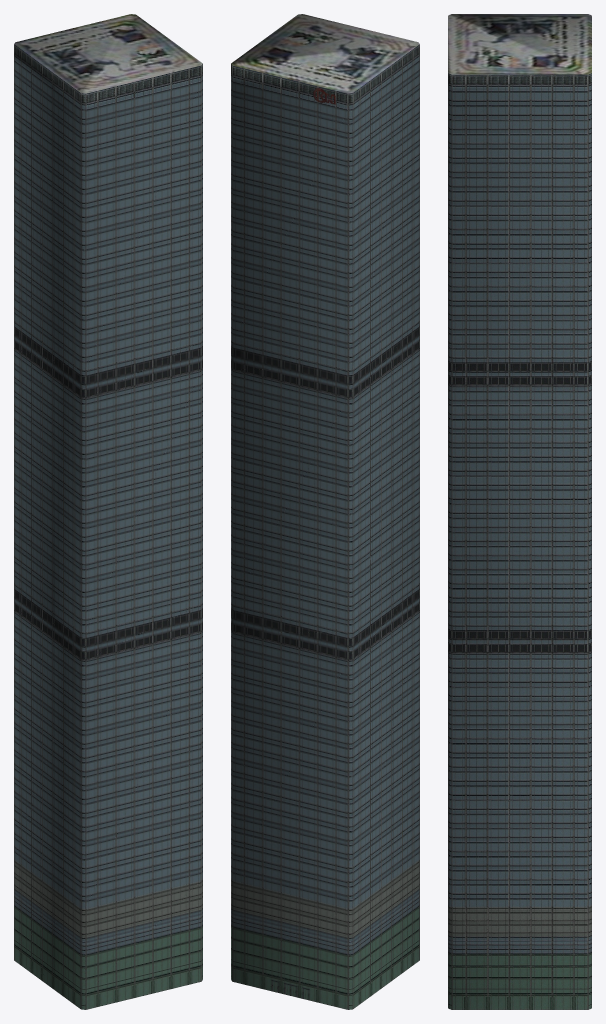
Rendered from CheungKongCenter_HighLOD.dae.
3 views of the same model, side by side, from view 1: azimuth 30°, elevation 25°; view 2: azimuth 150°, elevation 25°; view 3: azimuth 270°, elevation 25° (orthographic). The views are drawn at different scales.
Visible parts, largest first — view 1: CheungKongCentre; view 2: CheungKongCentre; view 3: CheungKongCentre.
Boxes of the visible parts, x1,y1,x2,y2 form: CheungKongCentre: (14,14,202,1009); CheungKongCentre: (231,14,419,1009); CheungKongCentre: (448,14,591,1009).
Bounding box in the file's own units: 40 × 40 × 287.
1 material, 1 textured.
